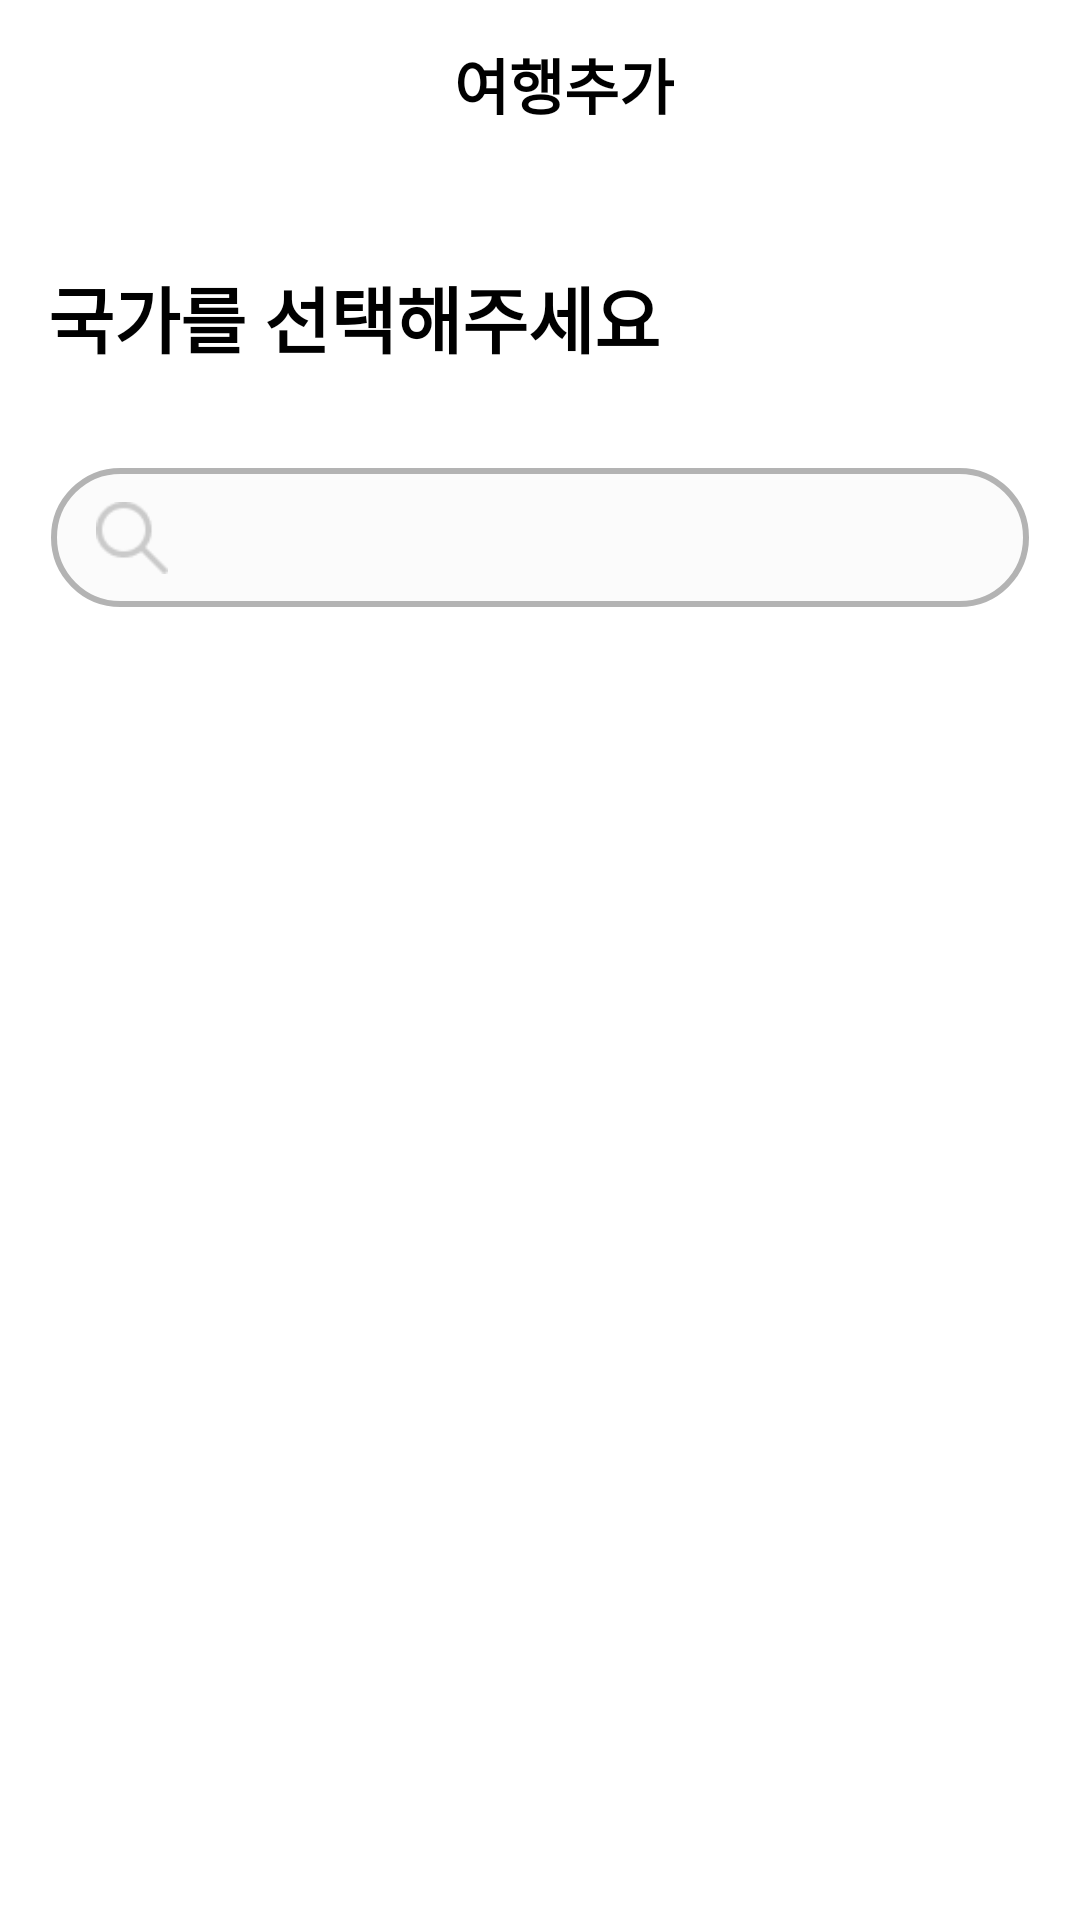

Named icons in this screenshot (1080w x 1920h) and their centers, [x,y]:
search: [132,538]
